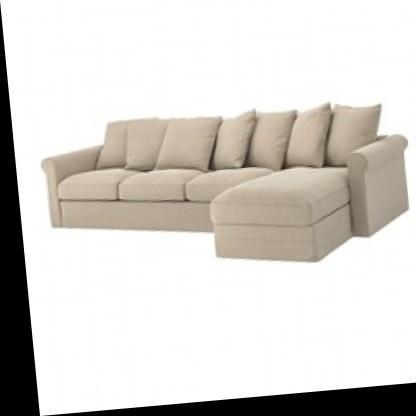Sofa: (26, 72, 416, 313)
